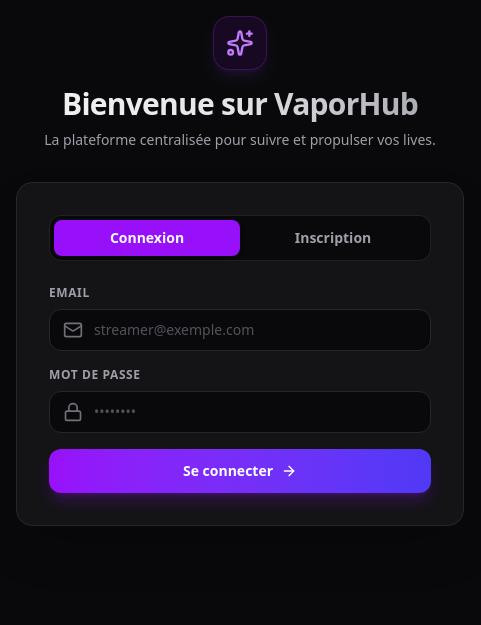
Test: 🧩 Vue : AuthView.vue › doit basculer sur le formulaire d'inscription quand on clique sur l'onglet Inscription
Click the button "Inscription".
click(333, 238)  # box [240,220,426,256]
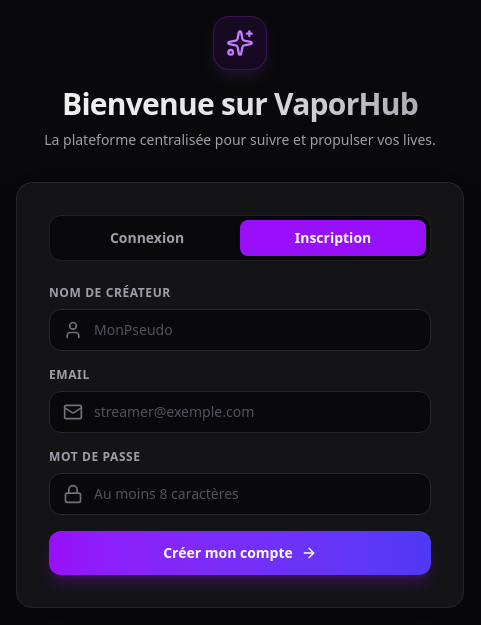
Expected: the field with placeholder "MonPseudo" is shown, [49,309,431,351]
Now the submit button reads "Créer mon compte", box [49,531,431,575]
